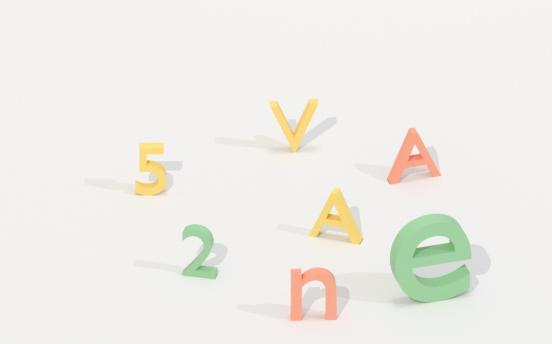chu_khoi: (390, 214, 470, 301), (309, 187, 362, 243), (387, 128, 440, 183), (269, 99, 317, 151), (290, 268, 336, 320)
so_khoi: (182, 224, 217, 278), (135, 142, 166, 195)
